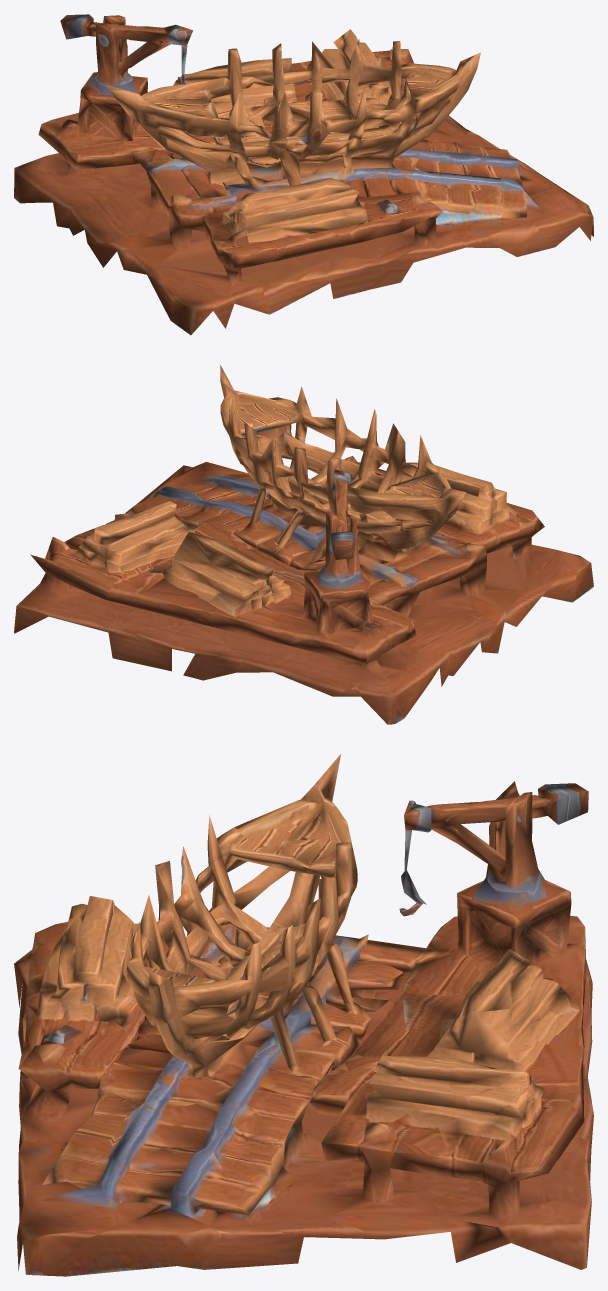
The model's file is m_shipyard_animated.glb.
3 renders of one model, top to bottom at view 1: azimuth 30°, elevation 25°; view 2: azimuth 150°, elevation 25°; view 3: azimuth 270°, elevation 25°, orthographic. The views are drawn at different scales.
Visible parts, largest first — view 1: m_shipyard_Living_Scenery; view 2: m_shipyard_Living_Scenery; view 3: m_shipyard_Living_Scenery.
Boxes of the visible parts, bbox=[...] form: m_shipyard_Living_Scenery: bbox=[14, 14, 593, 335]; m_shipyard_Living_Scenery: bbox=[14, 365, 593, 724]; m_shipyard_Living_Scenery: bbox=[14, 753, 593, 1276].
Bounding box in the file's own units: 0.9709 × 0.422 × 0.8167.
1 material, 1 textured.
